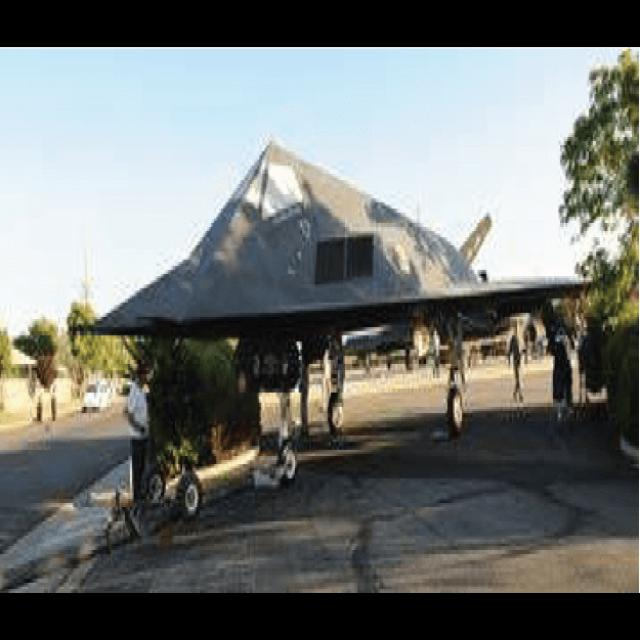F117: (1, 77, 624, 566)
